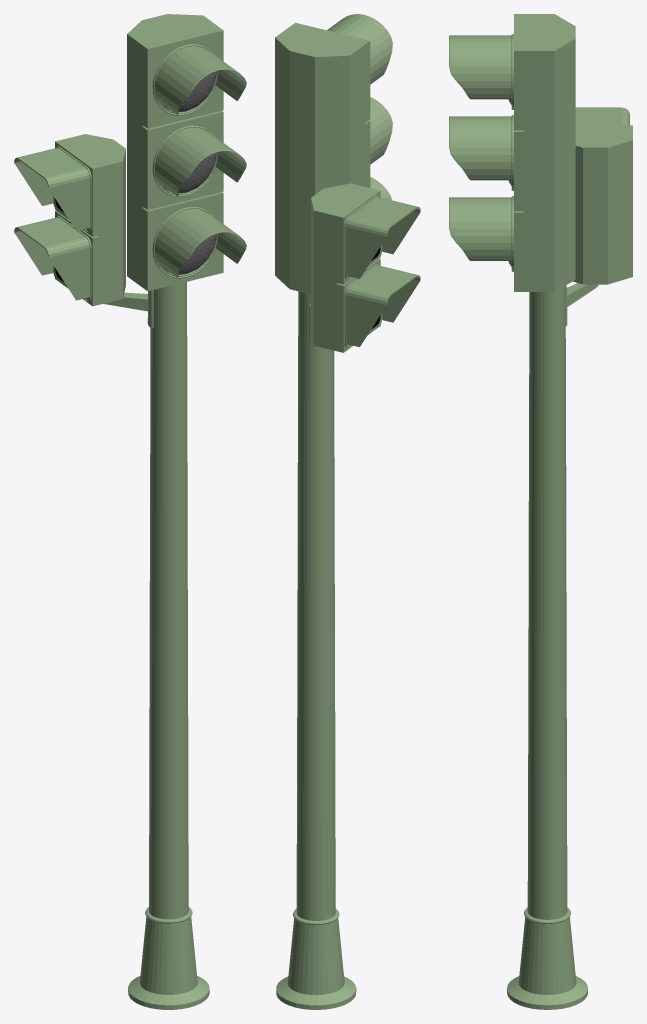
File: w_highway_traffic_signals - copia.glb
3 views of the same model, side by side, from view 1: azimuth 30°, elevation 25°; view 2: azimuth 150°, elevation 25°; view 3: azimuth 270°, elevation 25° (orthographic).
Visible parts, largest first — view 1: semaforo (SU 2017); view 2: semaforo (SU 2017); view 3: semaforo (SU 2017).
Part boxes in pixels (x1=…): semaforo (SU 2017): x1=14, y1=14, x2=246, y2=1009; semaforo (SU 2017): x1=275, y1=14, x2=420, y2=1009; semaforo (SU 2017): x1=449, y1=14, x2=632, y2=1009.
Bounding box in the file's own units: 0.4744 × 2.89 × 0.5014.
Materials: 7 (5 with a texture image).
